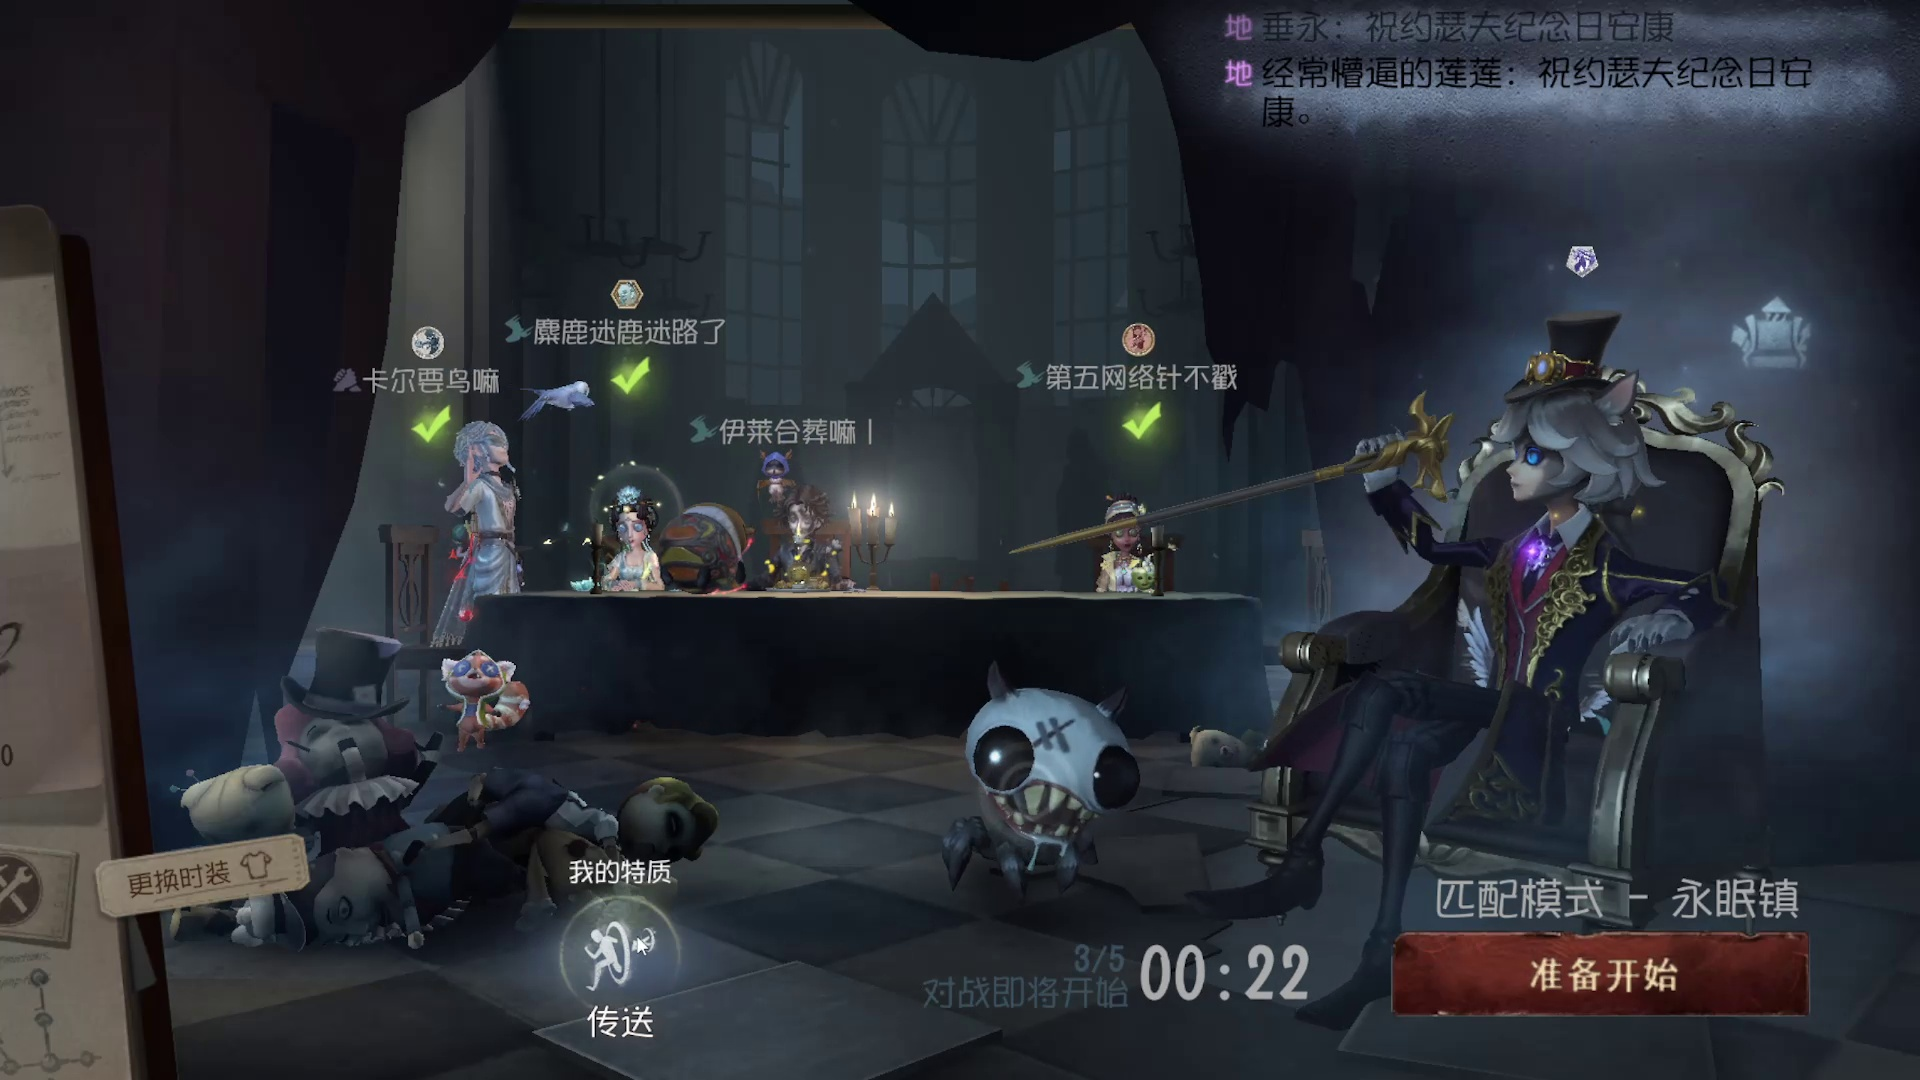准备开始: (1371, 913, 1830, 1044)
